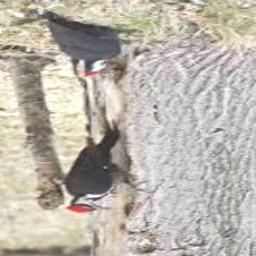Woodpecker: (64, 119, 152, 213), (48, 17, 144, 77)
